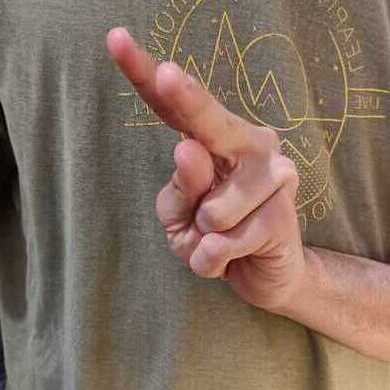K: (105, 24, 303, 312)
